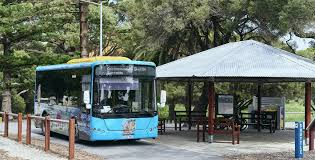bus: (34, 55, 159, 144)
